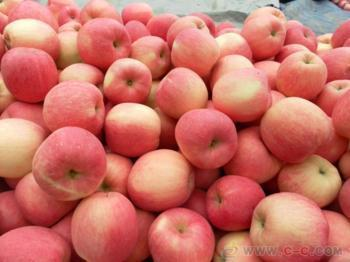apple: (32, 126, 108, 203), (249, 191, 329, 260), (259, 94, 334, 163), (70, 190, 136, 258), (127, 149, 197, 211), (175, 107, 239, 172), (273, 153, 342, 210), (147, 207, 215, 260), (43, 80, 105, 136), (104, 102, 162, 157), (1, 47, 58, 102), (212, 67, 268, 121), (1, 116, 46, 181), (76, 15, 131, 67), (275, 47, 326, 99), (157, 67, 210, 117), (240, 11, 285, 59), (318, 78, 349, 127), (334, 178, 350, 218)
